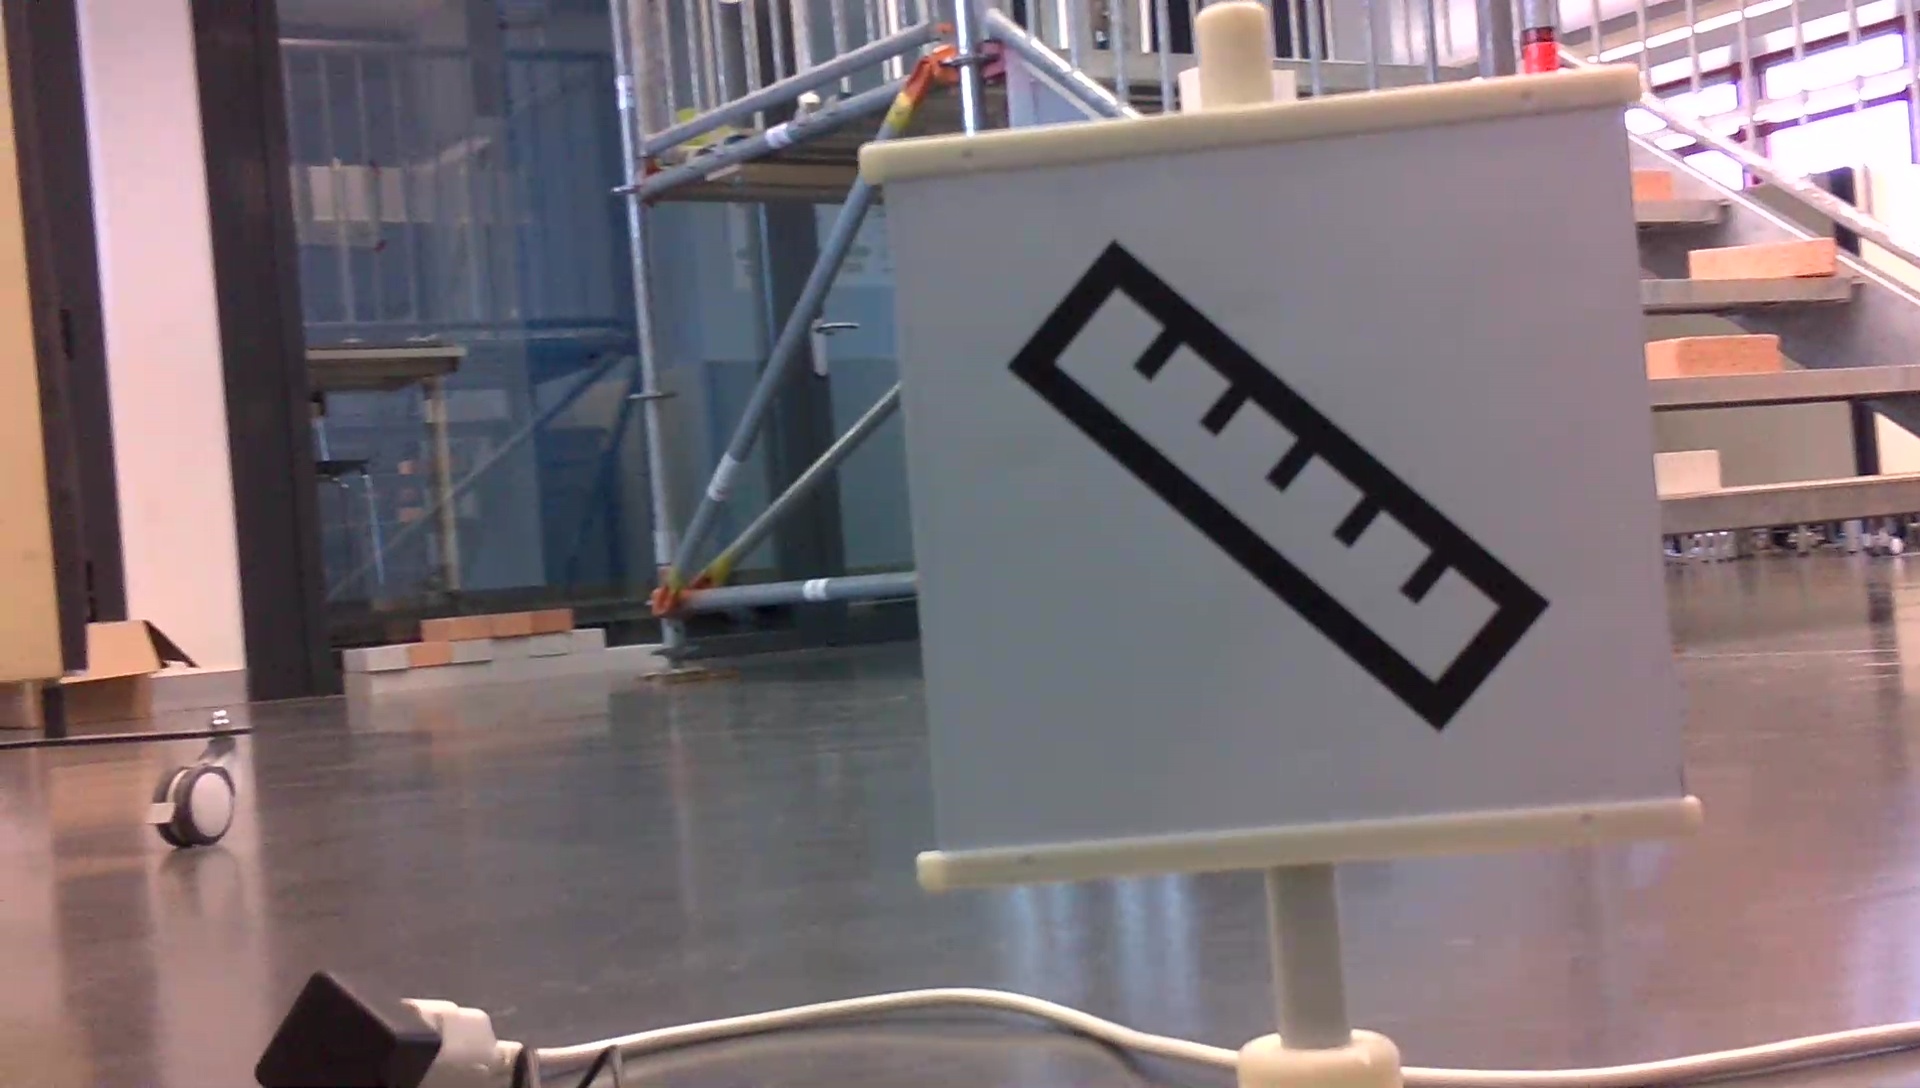brick: (1646, 328, 1784, 380), (1689, 236, 1834, 277), (1659, 447, 1716, 499)
ruler: (1007, 223, 1557, 739)
